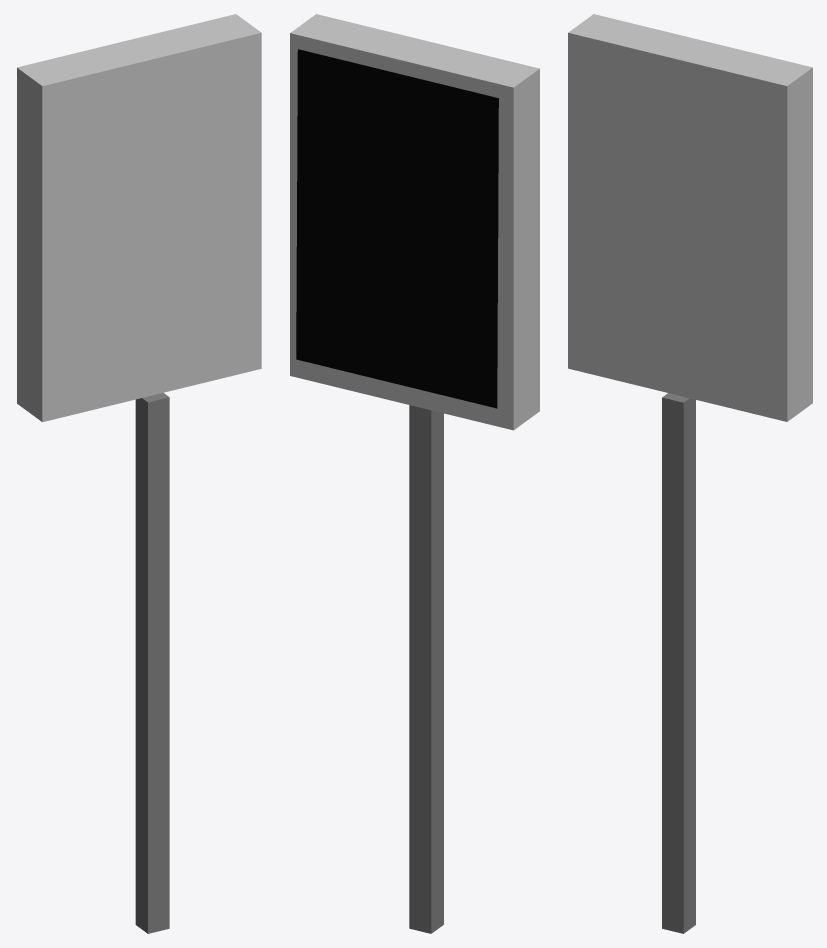
The model's file is rectanglesmSign.obj.
The picture shows the model from 3 angles, left to right: view 1: azimuth 30°, elevation 25°; view 2: azimuth 150°, elevation 25°; view 3: azimuth 330°, elevation 25°; orthographic projection. The views are drawn at different scales.
Parts seen in each view (by area): view 1: Cube.002, Cube.001; view 2: Plane_Plane.001, Cube.002, Cube.001; view 3: Cube.002, Cube.001.
Part boxes in pixels (x1=…): Cube.002: x1=17, y1=14, x2=261, y2=422; Cube.001: x1=135, y1=393, x2=169, y2=933; Plane_Plane.001: x1=296, y1=49, x2=498, y2=408; Cube.002: x1=290, y1=14, x2=539, y2=430; Cube.001: x1=409, y1=405, x2=443, y2=933; Cube.002: x1=568, y1=14, x2=812, y2=421; Cube.001: x1=662, y1=393, x2=695, y2=933.
Size of the model in its own units: 2 by 7.57 by 0.6436.
